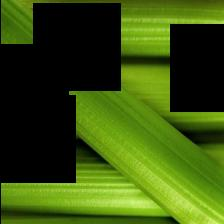green: (0, 3, 223, 224)
